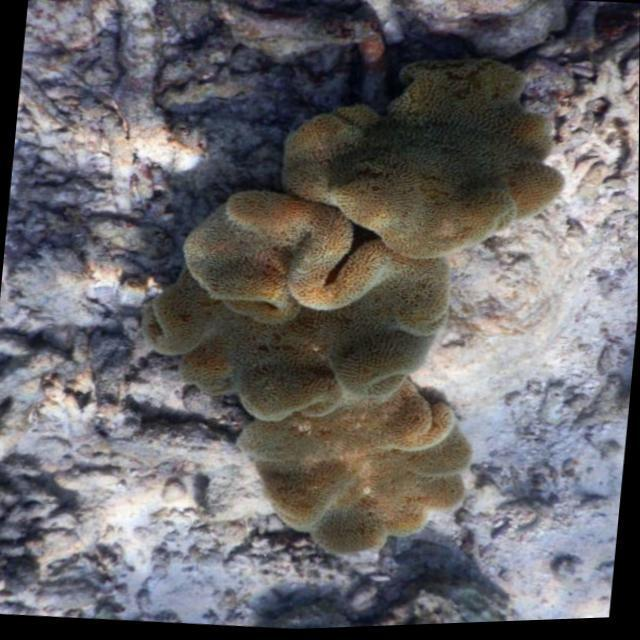Dead Coral: (6, 0, 602, 614)
